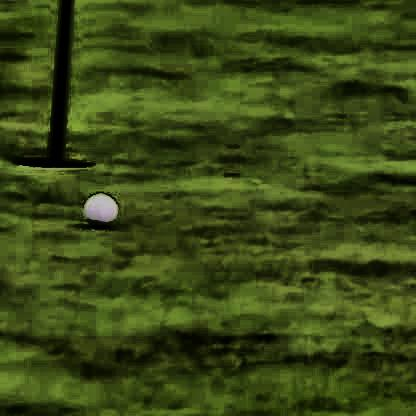golfball: (83, 186, 114, 222)
